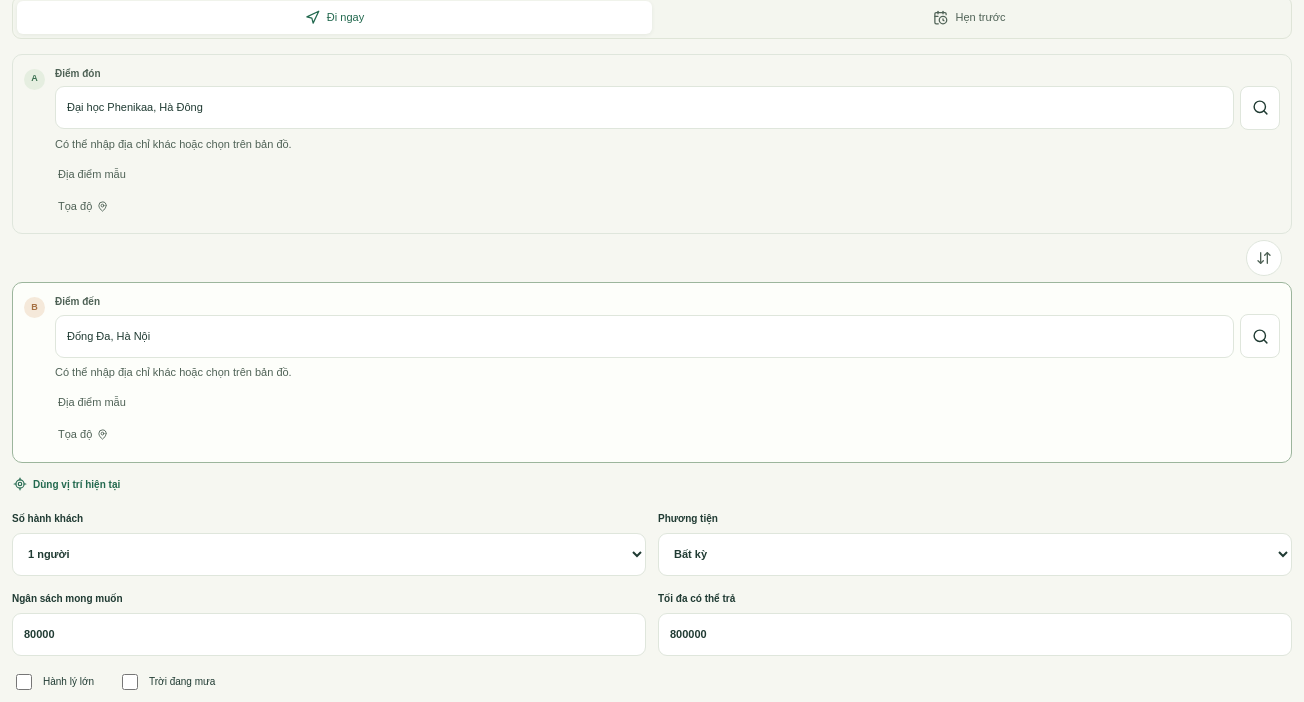
specific address selection › does not use the old coordinate while a new address remains unresolved
This screenshot has width=1304, height=702.
Replace the text in the dropdown labelled "Điểm đến" with "144 Xuân Thủy, Cầu Giấy, Hà Nội" at {"x": 644, "y": 336}, box [55,314,1234,358]
(page scrolled)
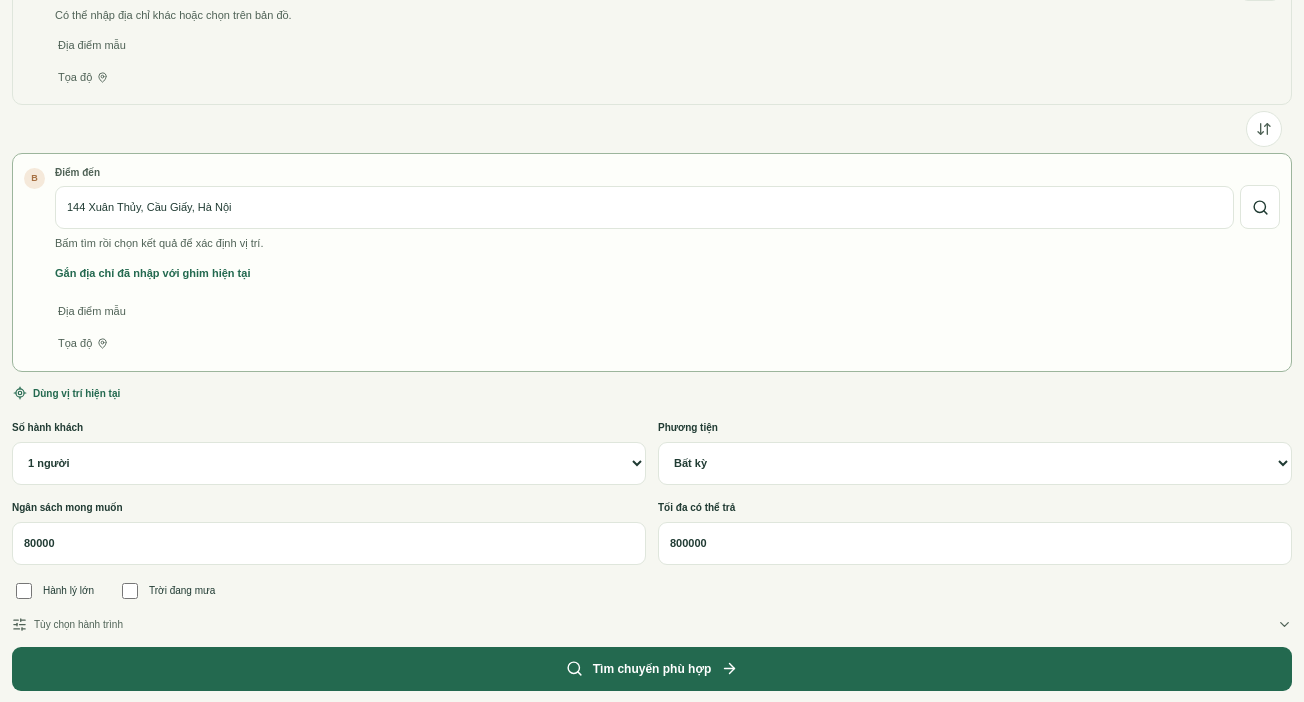
Click the button "Tìm chuyến phù hợp".
click(652, 668)  # box [12,646,1292,690]
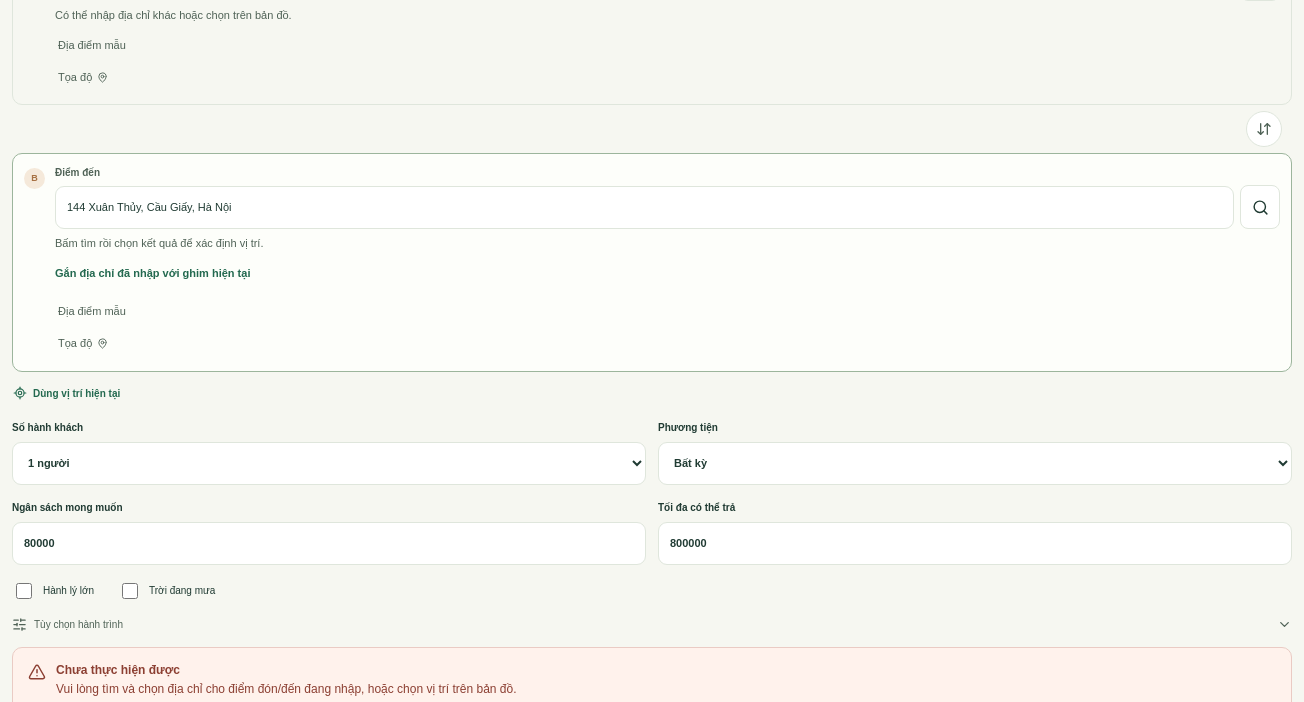
Expected: the message shows "tìm và chọn địa chỉ", [56,682,516,696]
